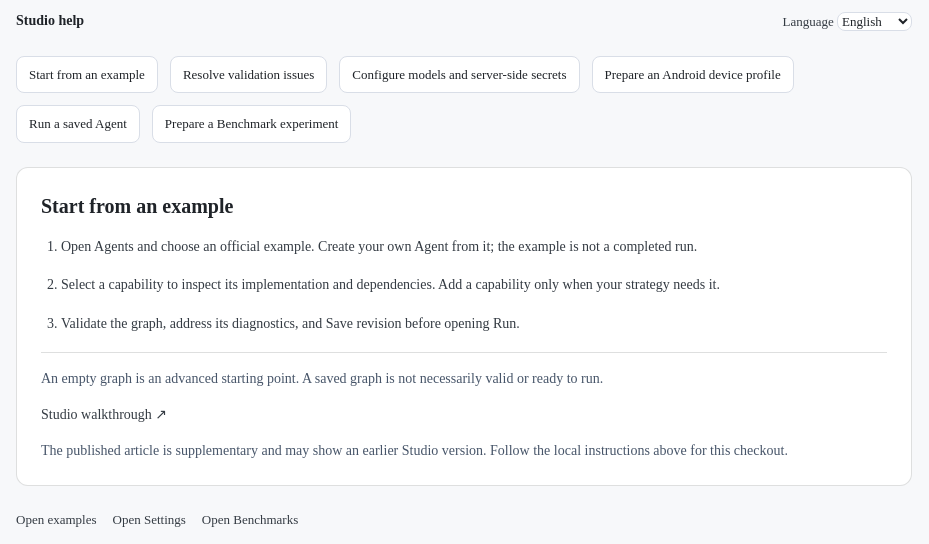
Test: task-oriented bilingual Help › preserves topic start through language changes without runtime requests
Expected: the heading "Start from an example" is shown, left=41, top=194, right=233, bottom=216
Select "简体中文" in the dropdown named "Help language". click: (874, 22)
box: left=837, top=12, right=912, bottom=31
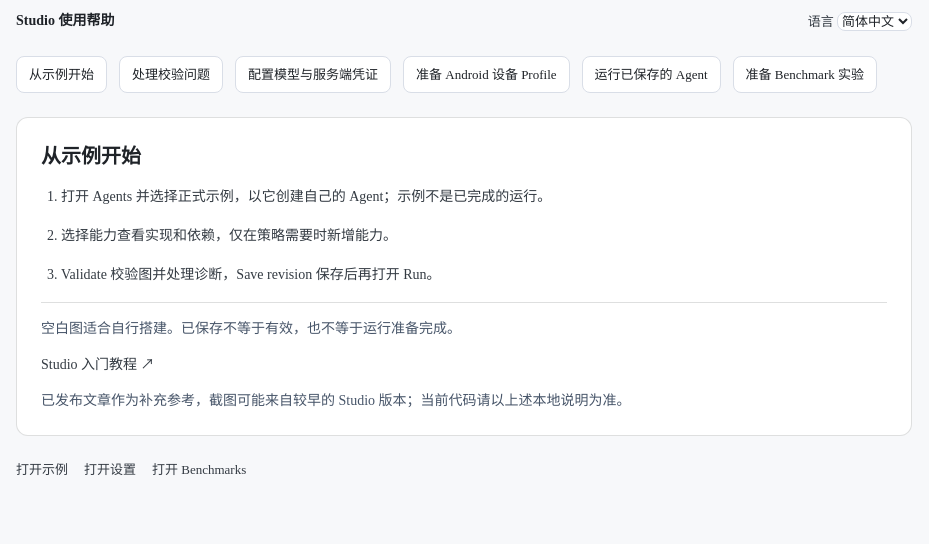
Expected: the number of list items is 3, left=61, top=189, right=551, bottom=204; left=61, top=228, right=397, bottom=243; left=61, top=266, right=440, bottom=282
Expected: the heading "从示例开始" is shown, left=41, top=145, right=141, bottom=167
